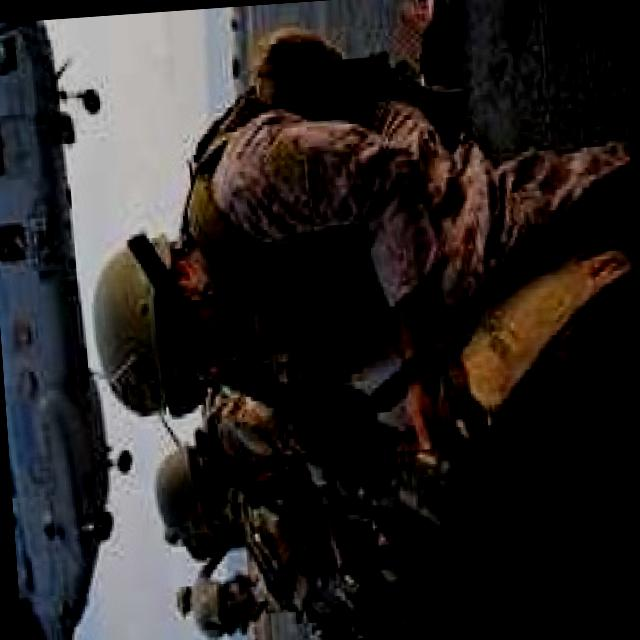long weapon: (241, 332, 611, 604)
